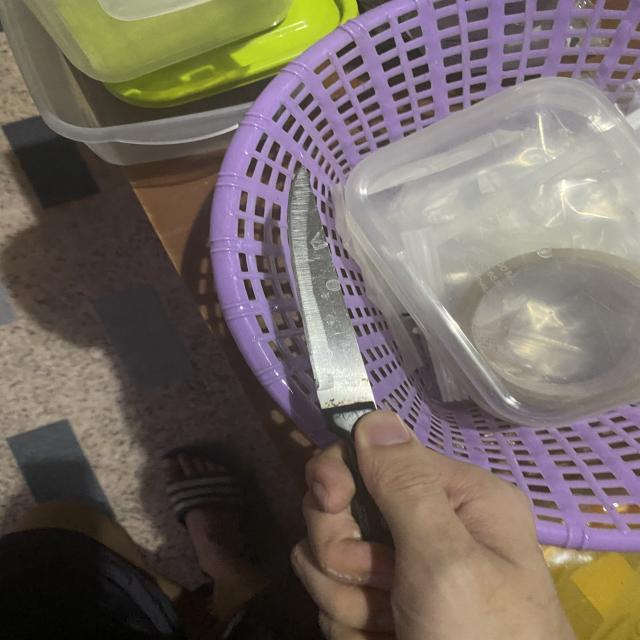faca: (235, 141, 544, 640)
